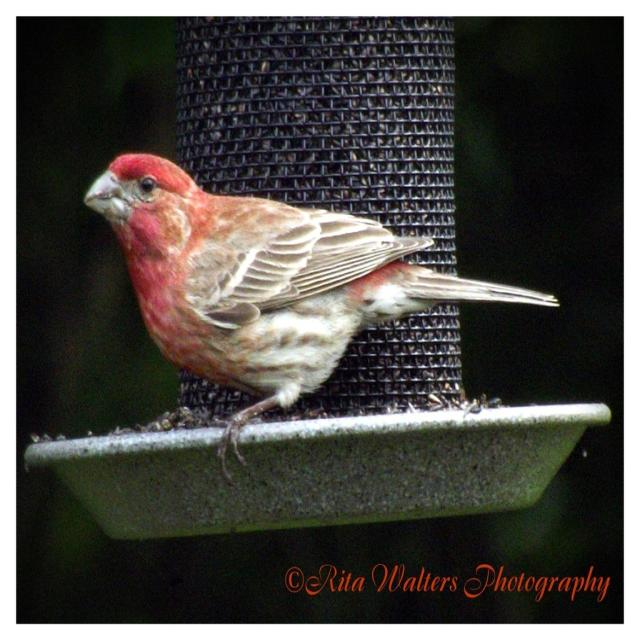bird: (73, 144, 574, 456)
